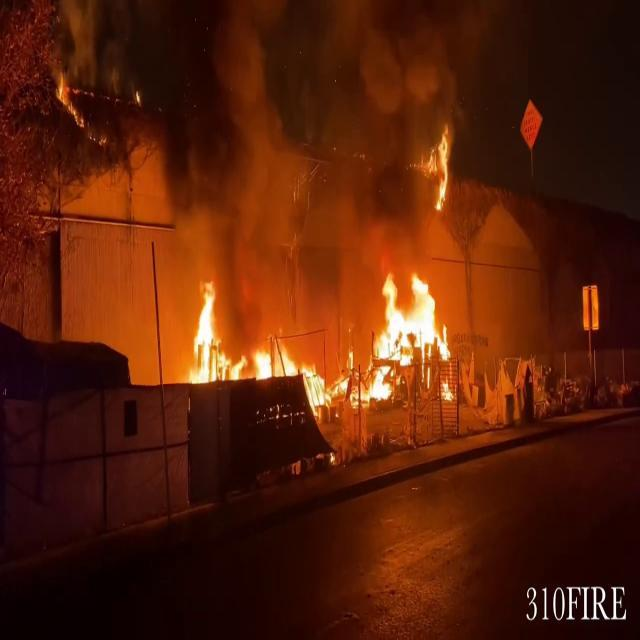Fire: (250, 265, 460, 419), (178, 280, 242, 387), (412, 119, 460, 218)
Smoke: (71, 1, 477, 280)
